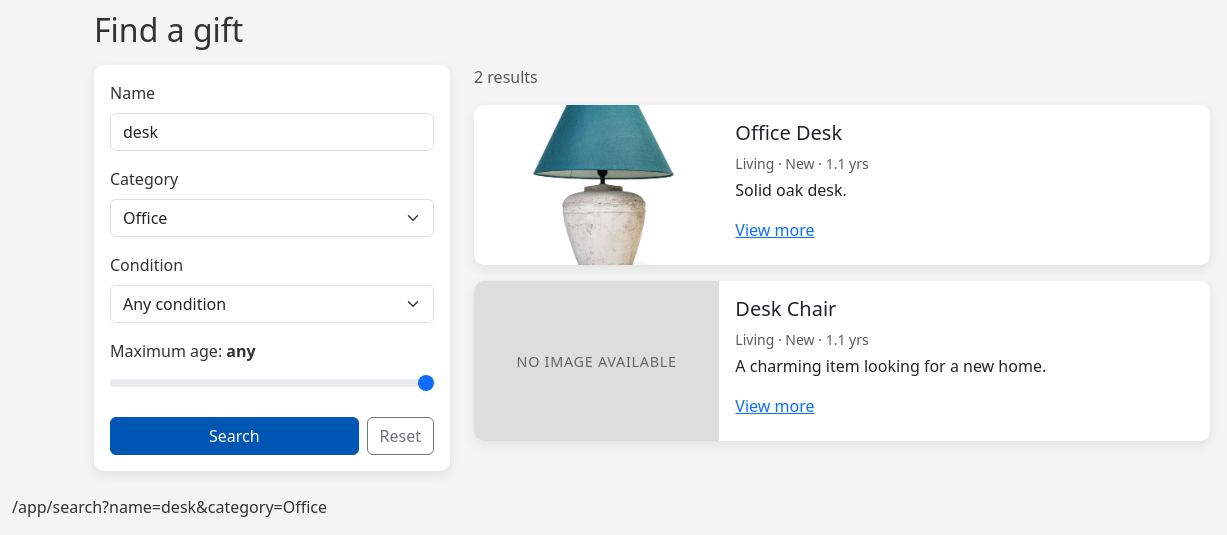
<SearchPage /> › resets filters
This screenshot has width=1227, height=535.
Expected: the text "2 results" is shown, x1=474 y1=66 x2=538 y2=88
Click the button "Reset": [400, 436] box x1=366 y1=417 x2=434 y2=455
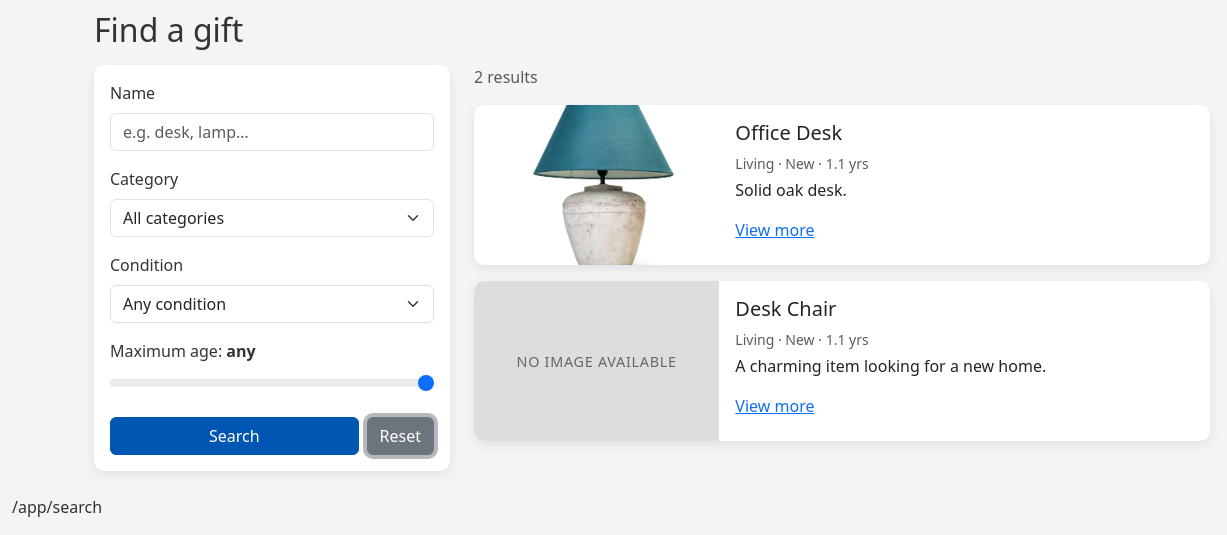
Expected: the text with test id "location" reads "/app/search", x1=12 y1=496 x2=102 y2=518
Now the search field labelled "Name" is empty, box x1=110 y1=113 x2=434 y2=151
Now the dropdown labelled "Category" shows "All categories", box x1=110 y1=199 x2=434 y2=237
